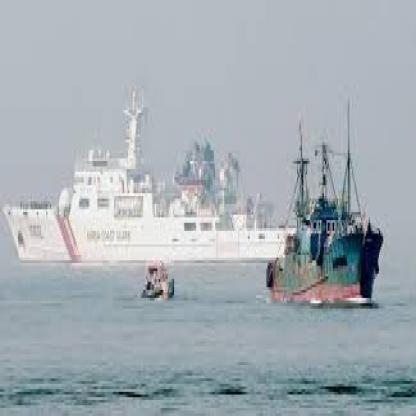fish-b: (257, 84, 392, 320)
